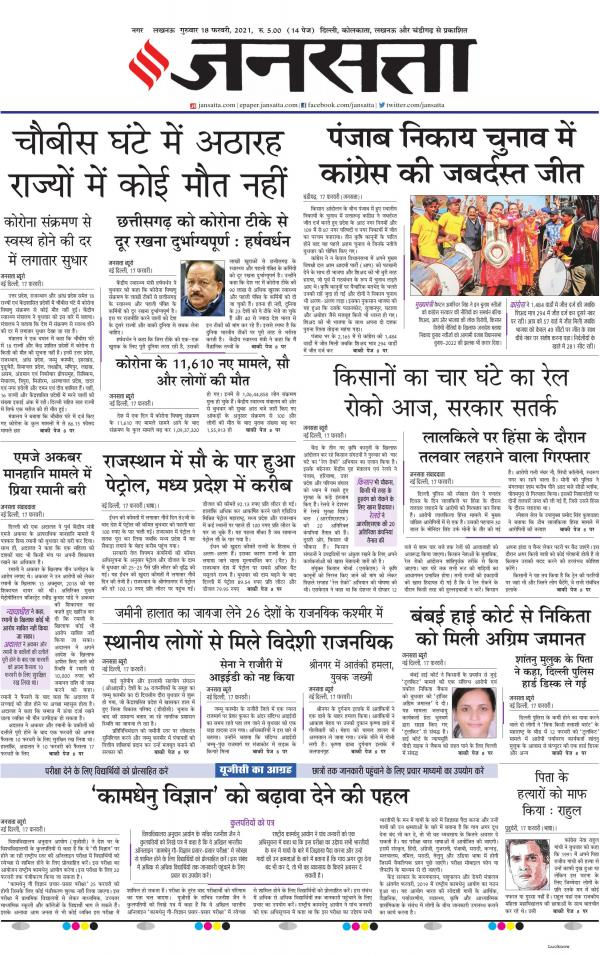news_paper: (2, 7, 594, 956)
